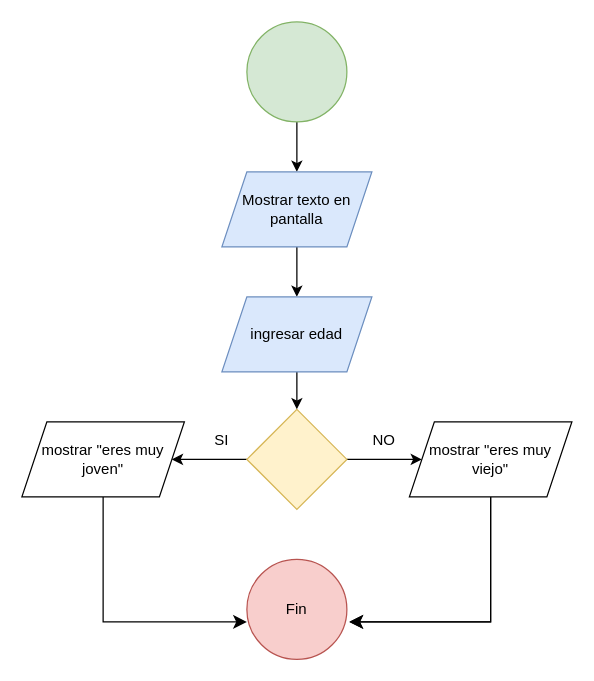
Image size: 594x681. Some labels were removed from this diagram. The centre of each missing label's shape, as x and y in pixels:
"Edad < 40" belongs at point (296, 458).
"Inicio" belongs at point (296, 71).
